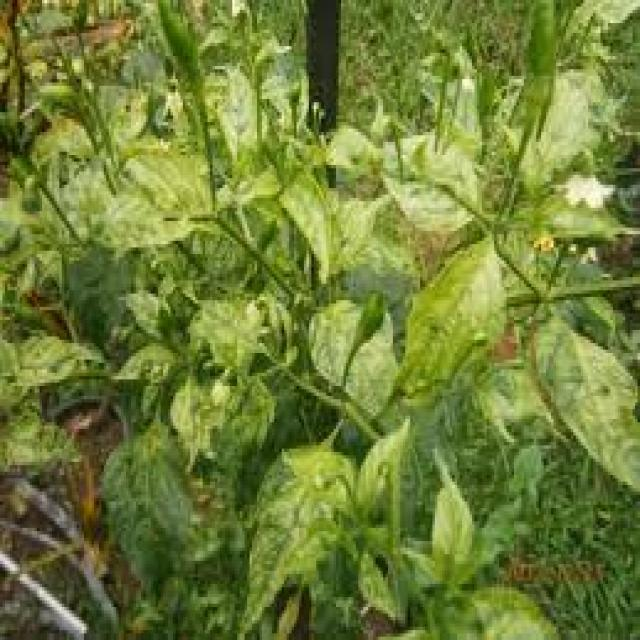virus_kuning: (398, 232, 514, 428), (304, 284, 361, 387)
